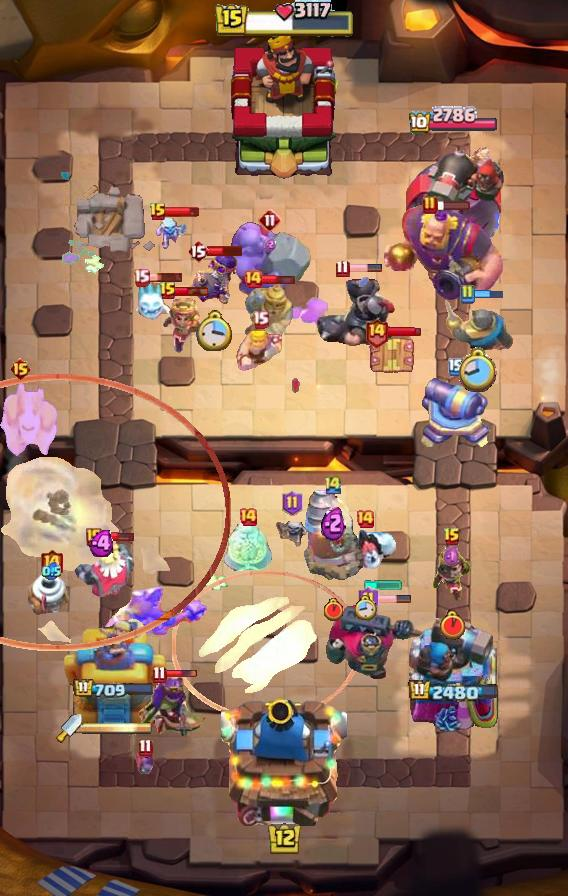archer: (235, 327, 285, 373)
archer-queen: (226, 221, 314, 301)
bar: (61, 615, 166, 731)
barbarian-barrel: (132, 748, 158, 776)
barbarian-hut: (130, 674, 215, 744)
bat: (128, 282, 173, 324)
bomber-evolution: (160, 295, 204, 353), (430, 547, 474, 601)
clock: (213, 0, 355, 40)
electro-spirit: (321, 503, 346, 540), (89, 531, 117, 558), (443, 545, 461, 568), (42, 563, 61, 581), (264, 236, 276, 251)
elixir: (458, 346, 497, 393), (196, 310, 233, 351), (440, 610, 465, 640), (354, 595, 377, 620), (324, 599, 343, 622)
elixir-collector: (220, 519, 276, 579)
elixir-golem-small: (0, 383, 60, 461)
emote: (261, 273, 296, 287), (207, 244, 244, 257), (148, 271, 185, 283), (435, 199, 471, 211), (164, 206, 200, 218), (174, 285, 210, 297), (386, 326, 422, 338), (100, 531, 135, 543), (472, 288, 504, 300), (347, 263, 383, 273), (376, 594, 412, 604), (164, 669, 198, 679)
firecracker: (442, 298, 514, 353)
freeze: (99, 585, 207, 653)
goblin-ball: (189, 251, 239, 305)
goblin-brawler: (366, 333, 416, 379)
goblin-drill: (28, 567, 74, 623)
heal-spirit: (154, 217, 188, 251), (276, 517, 308, 549)
ice-spirit: (363, 578, 405, 590)
ice-wizard: (172, 571, 360, 721)
inferno-tower: (326, 603, 442, 681)
king-tower: (222, 31, 346, 181), (221, 690, 347, 826)
king-tower-bar: (82, 721, 152, 735)
lightning: (380, 204, 504, 302)
magic-archer: (303, 489, 363, 581)
mortar-evolution: (72, 537, 134, 597)
rage: (330, 526, 400, 578)
ram-rider: (242, 281, 296, 359)
royal-ghost: (0, 374, 231, 651)
royal-guardian: (314, 267, 396, 349)
royal-recruit: (420, 368, 492, 452)
selected: (409, 106, 500, 136), (409, 679, 500, 704), (73, 678, 155, 700)
text: (364, 317, 389, 348), (39, 548, 64, 579), (258, 208, 282, 232), (8, 357, 31, 381), (282, 490, 303, 516), (357, 586, 378, 612), (187, 239, 209, 263), (323, 474, 343, 495), (243, 269, 263, 289), (238, 507, 258, 527), (355, 509, 375, 529), (149, 202, 167, 222), (159, 281, 177, 301), (443, 527, 461, 547), (133, 269, 151, 287), (422, 195, 438, 215), (459, 284, 475, 304), (251, 311, 268, 329), (448, 358, 464, 376), (86, 528, 102, 546), (138, 738, 153, 757), (335, 259, 350, 277), (153, 665, 167, 683)
tower-bar: (402, 136, 504, 256), (407, 611, 499, 731)
